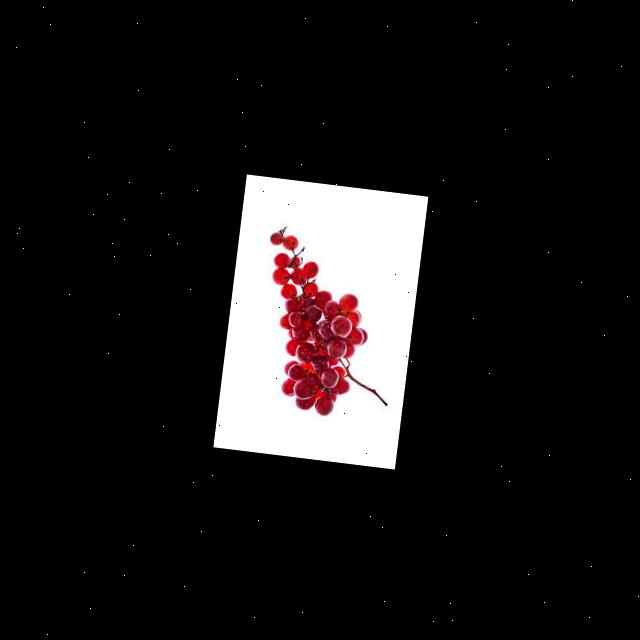grape: (250, 223, 408, 422)
